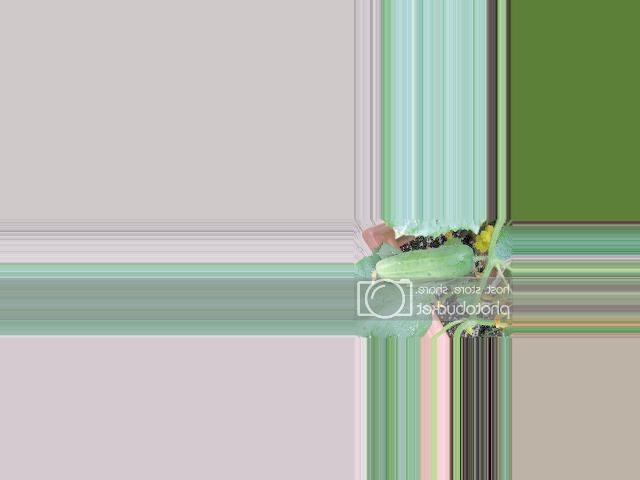cucumber: (374, 244, 472, 284)
